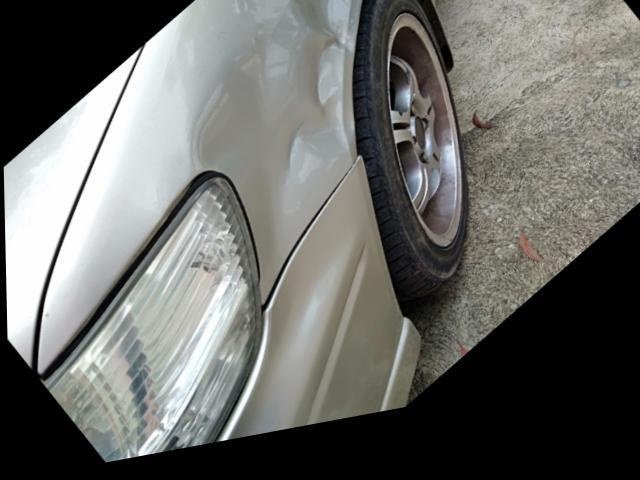dent: (194, 0, 358, 249)
